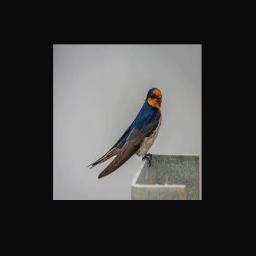Swallow: (86, 88, 162, 179)
